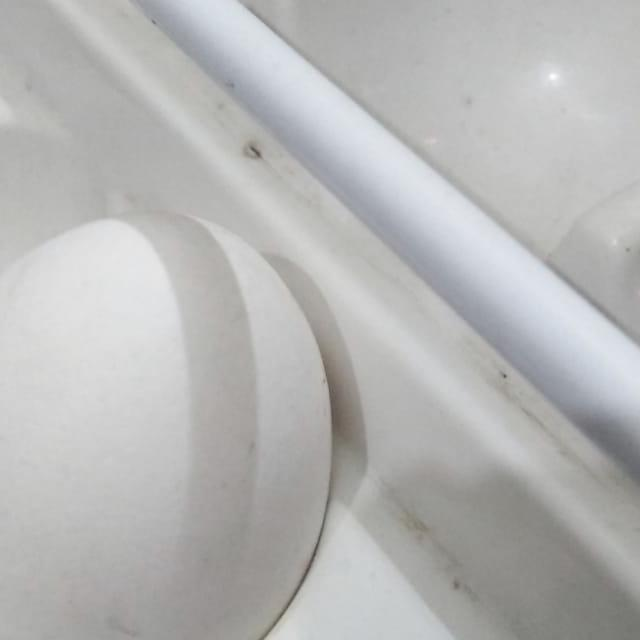egg: (0, 204, 337, 640)
